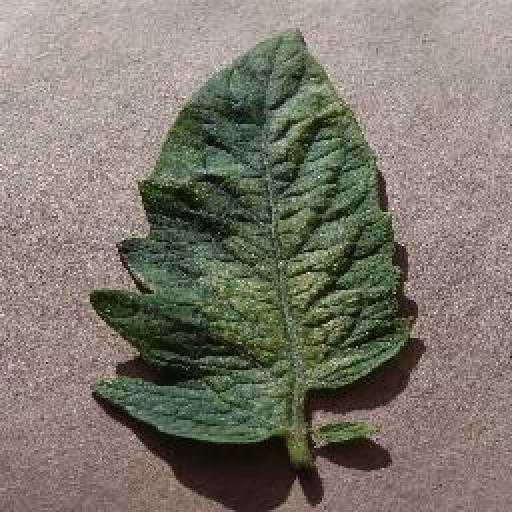disease_tomato: (92, 24, 418, 442)
